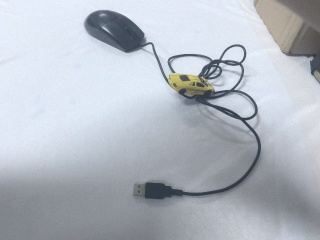box: (252, 1, 319, 59)
mouse: (84, 9, 147, 54)
toy_car: (166, 72, 217, 102)
